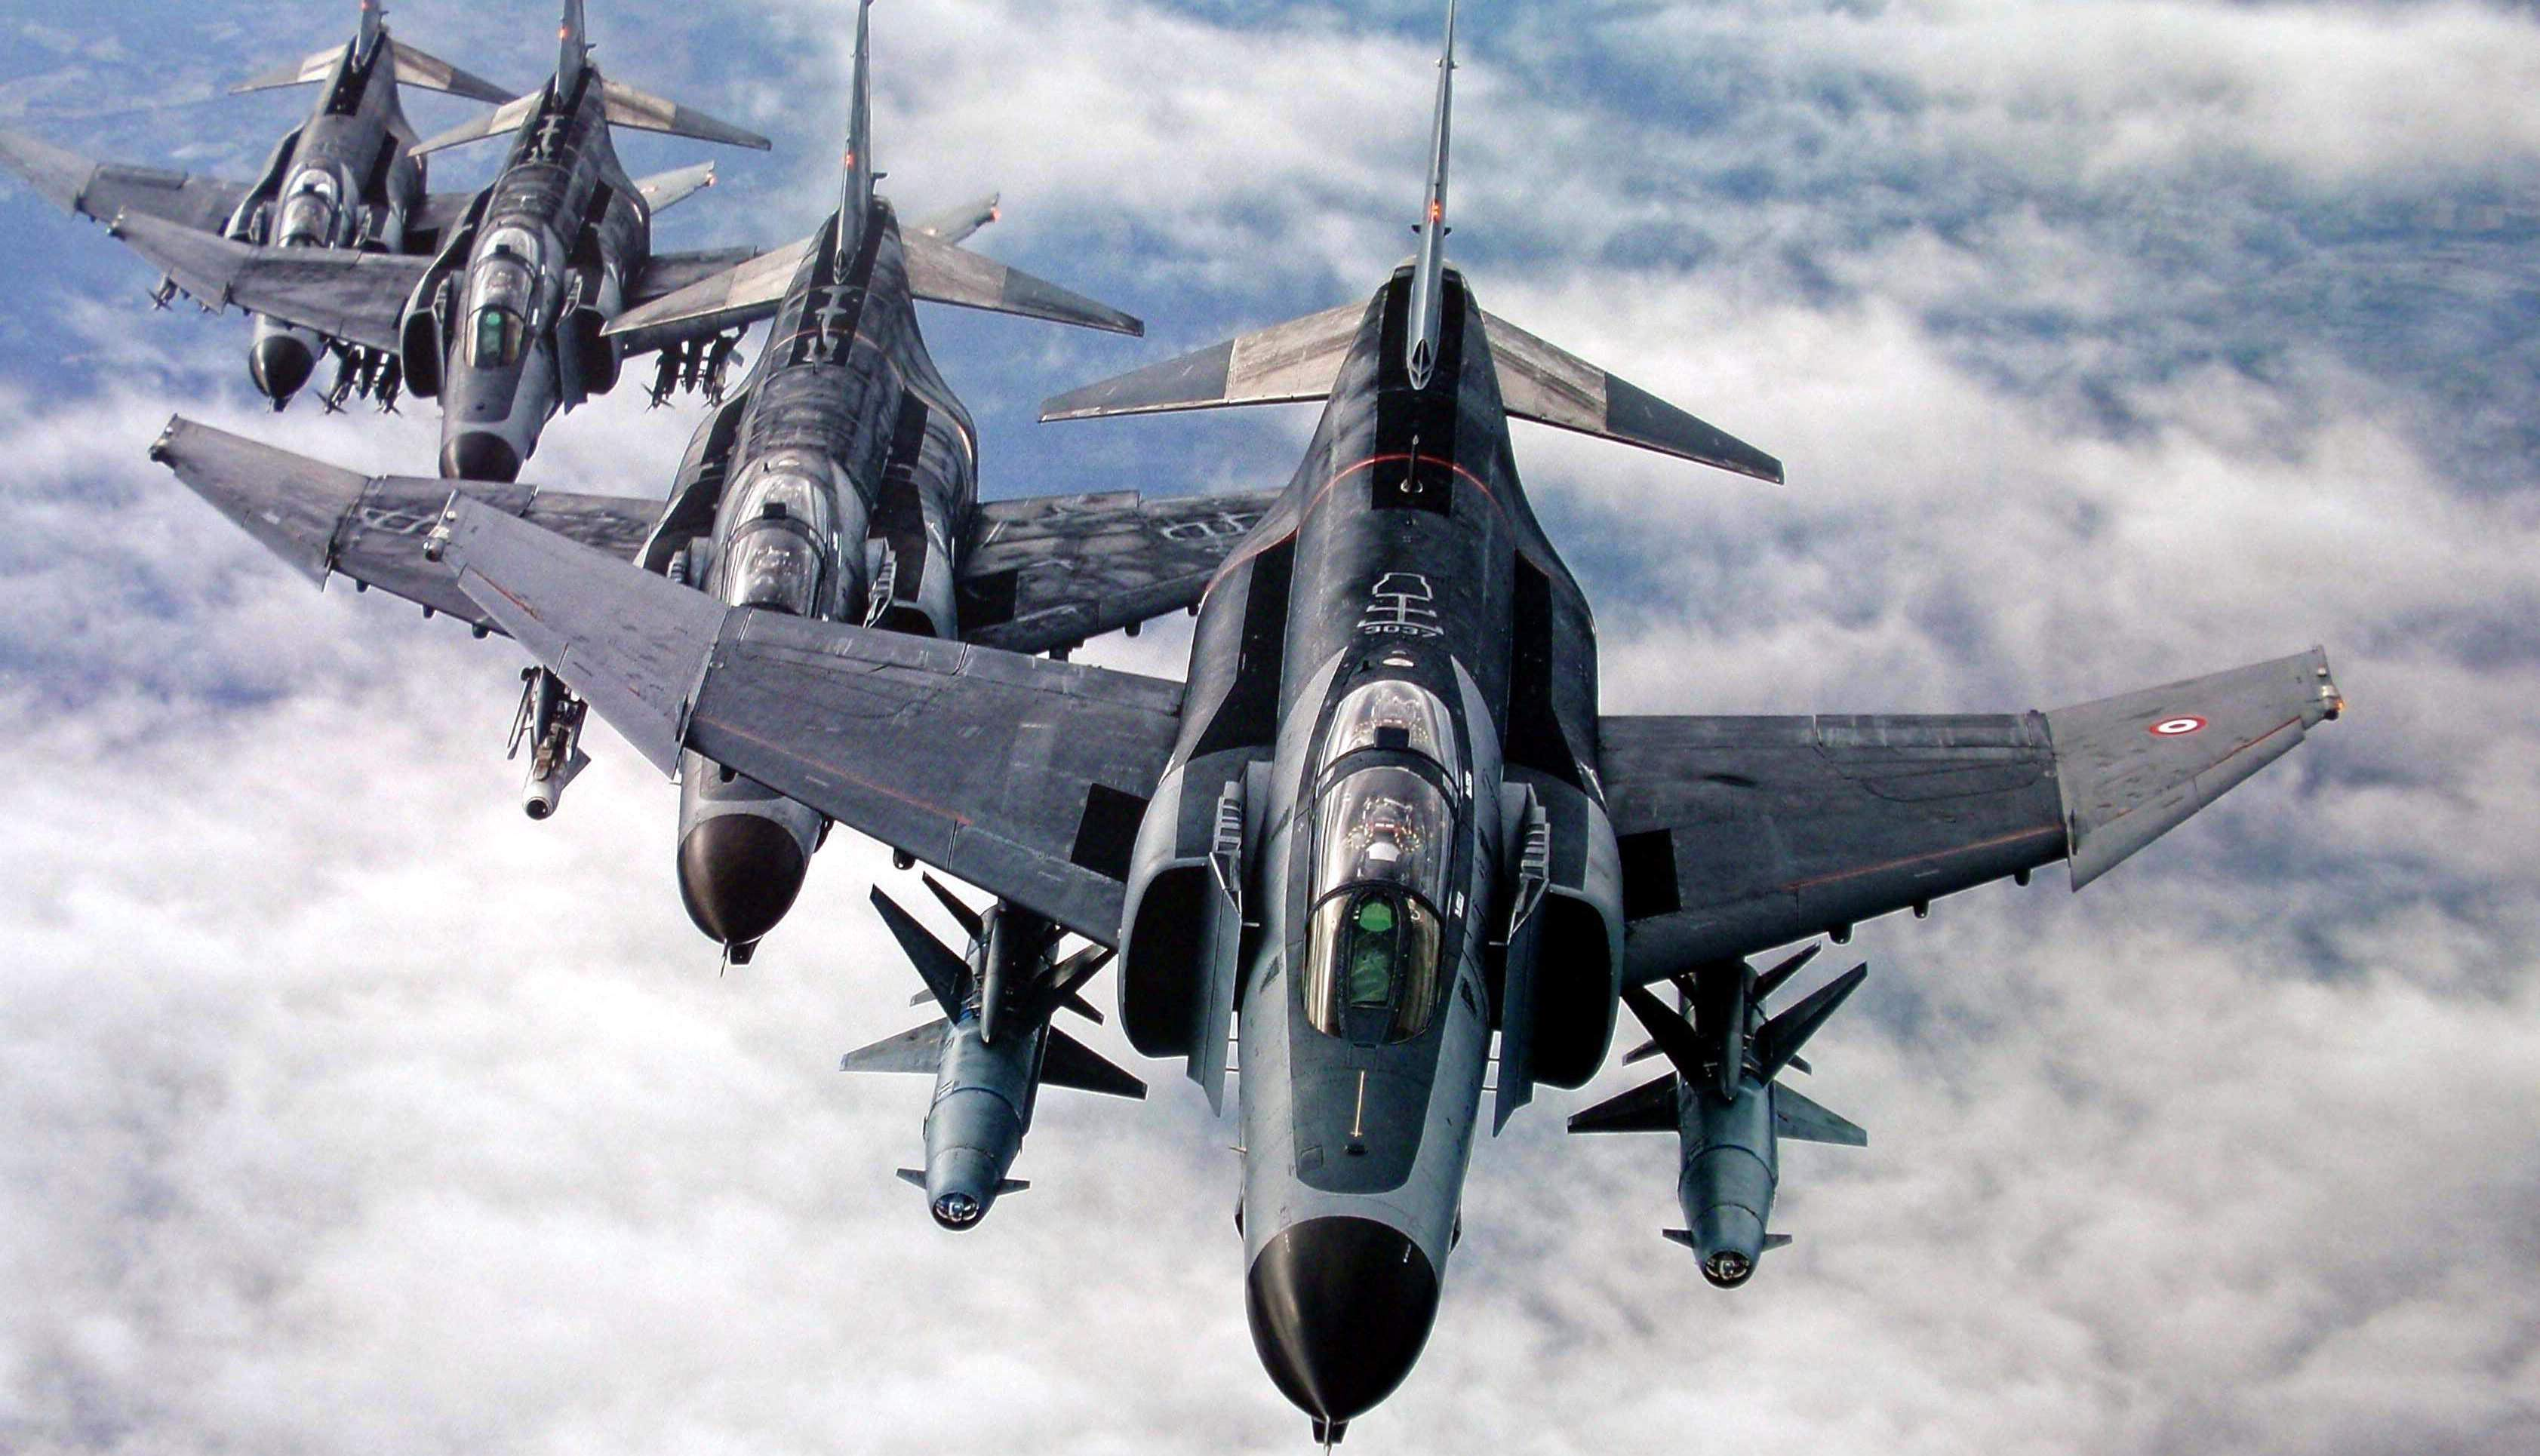F4: (424, 0, 2345, 1456), (148, 0, 1289, 978), (106, 0, 1001, 483), (0, 0, 715, 413)
